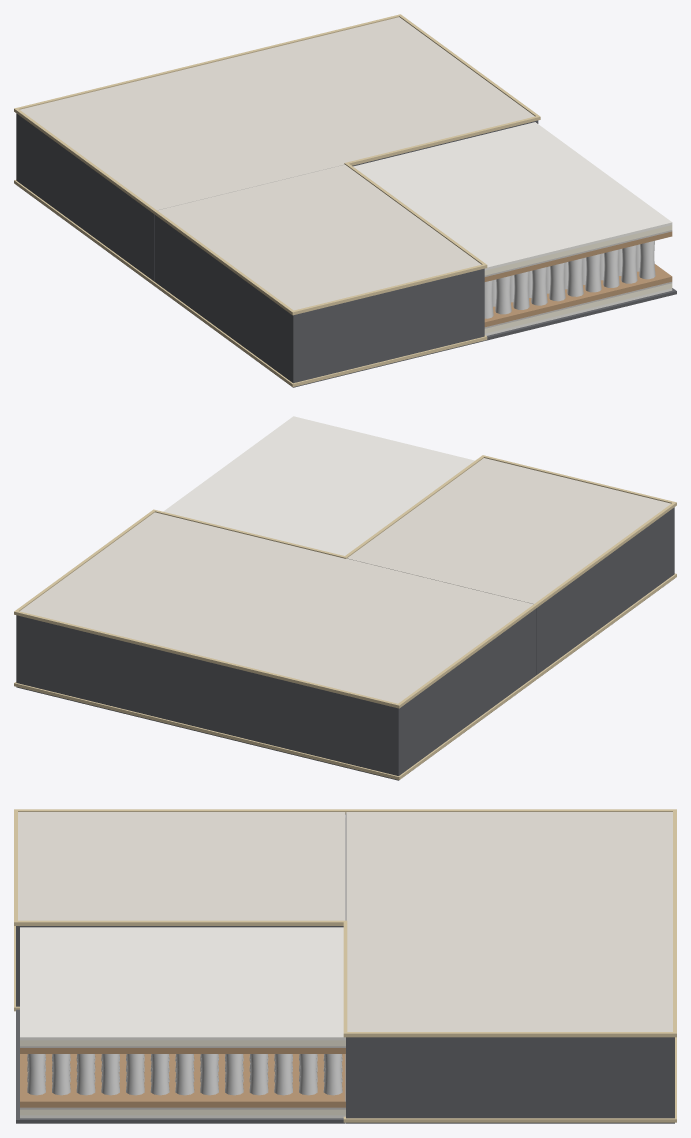
The model's file is eluna-royal.glb.
3 renders of one model, top to bottom at view 1: azimuth 30°, elevation 25°; view 2: azimuth 150°, elevation 25°; view 3: azimuth 270°, elevation 25°, orthographic. The views are drawn at different scales.
Parts seen in each view (by area): view 1: Eluna Royal; view 2: Eluna Royal; view 3: Eluna Royal.
Part boxes in pixels (x1=…): Eluna Royal: x1=14, y1=14, x2=676, y2=387; Eluna Royal: x1=14, y1=416, x2=676, y2=780; Eluna Royal: x1=14, y1=809, x2=676, y2=1123.
Bounding box in the file's own units: 1.61 × 0.304 × 2.01.
